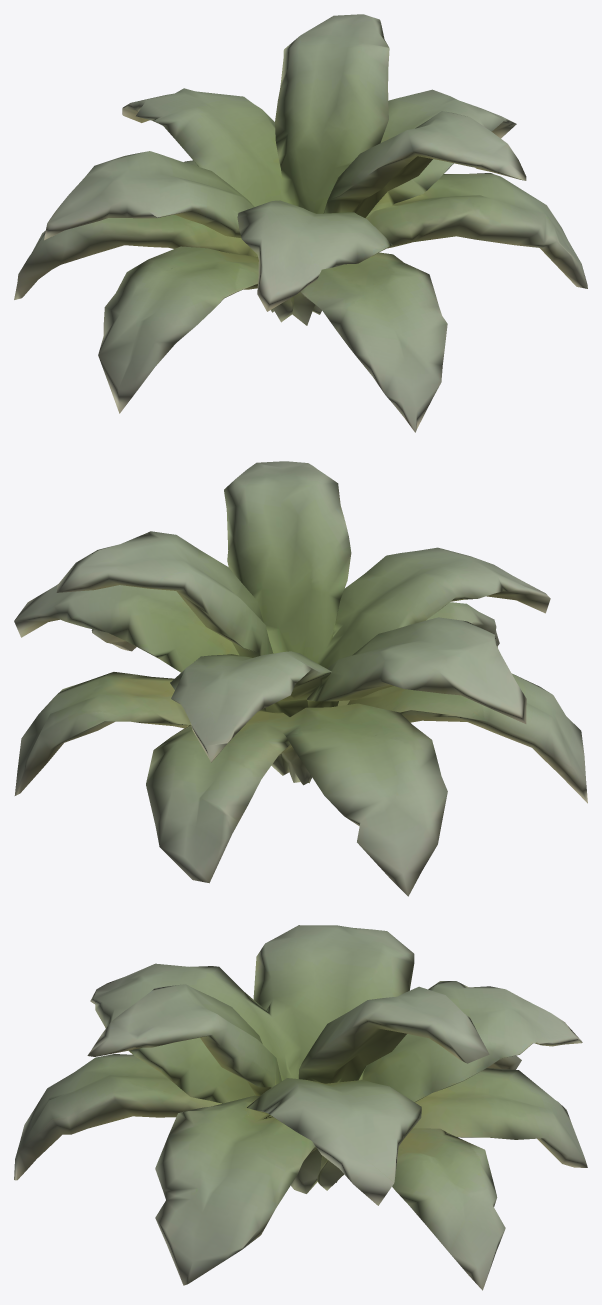
File: mandrake+grass.obj
3 views of the same model, one above another, from view 1: azimuth 30°, elevation 25°; view 2: azimuth 150°, elevation 25°; view 3: azimuth 270°, elevation 25° (orthographic). The views are drawn at different scales.
Visible parts, largest first — view 1: meshes[0]; view 2: meshes[0]; view 3: meshes[0].
Part boxes in pixels (bbox=[...]): meshes[0]: bbox=[14, 14, 587, 432]; meshes[0]: bbox=[14, 461, 587, 896]; meshes[0]: bbox=[14, 925, 587, 1290].
Bounding box in the file's own units: 0.9717 × 0.4563 × 0.9816.
1 material, 1 textured.
